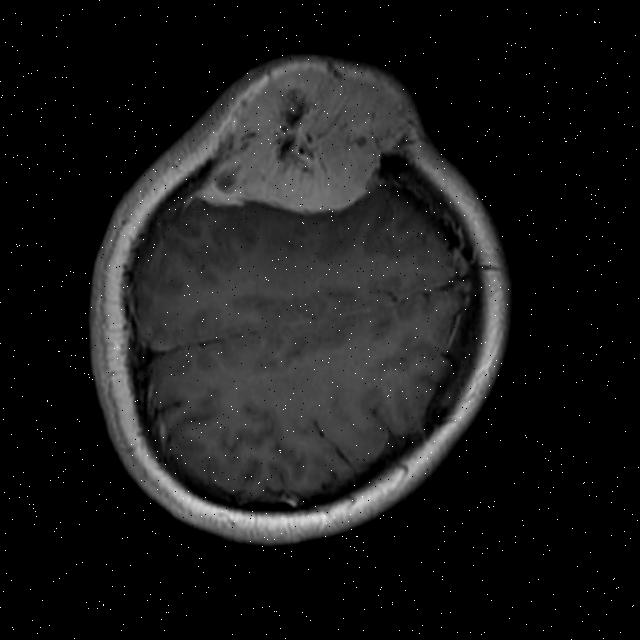Meningioma: (158, 44, 431, 243)
